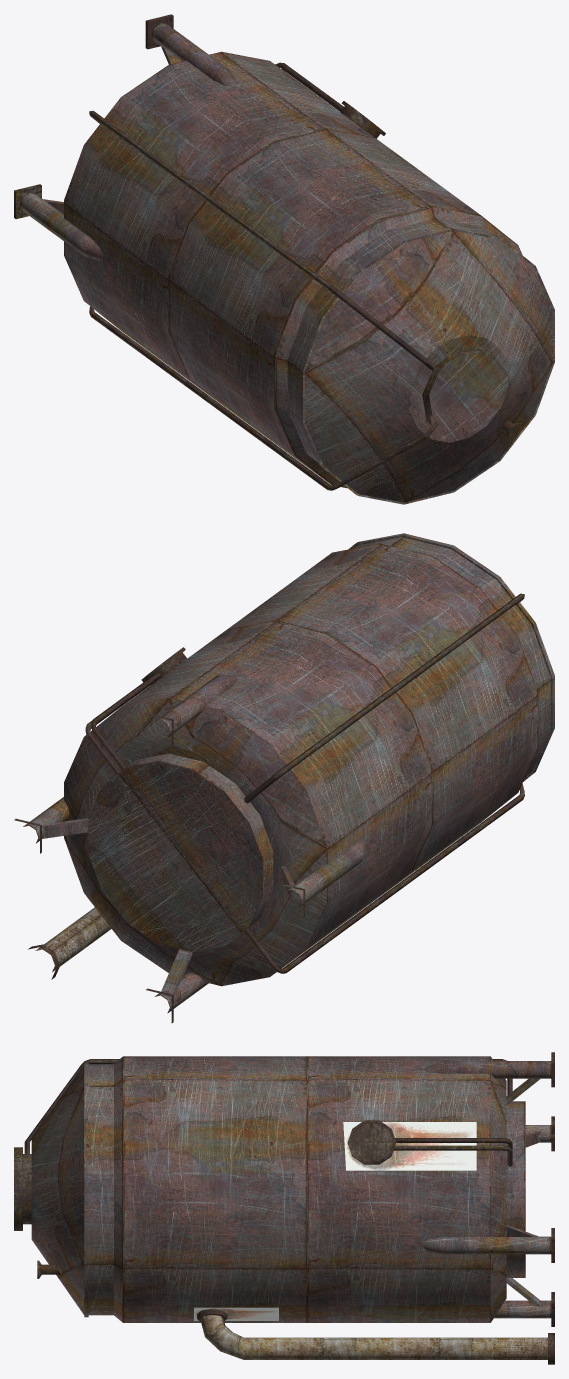
The model's file is storage_tank01.glb.
3 renders of one model, top to bottom at view 1: azimuth 30°, elevation 25°; view 2: azimuth 150°, elevation 25°; view 3: azimuth 270°, elevation 25°, orthographic. The views are drawn at different scales.
Size of the model in its own units: 146 by 146 by 272.
Materials: 5 (5 with a texture image).
